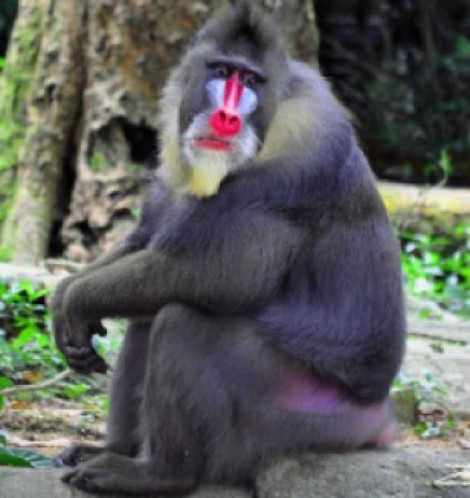Mandrill: (139, 13, 408, 468)
